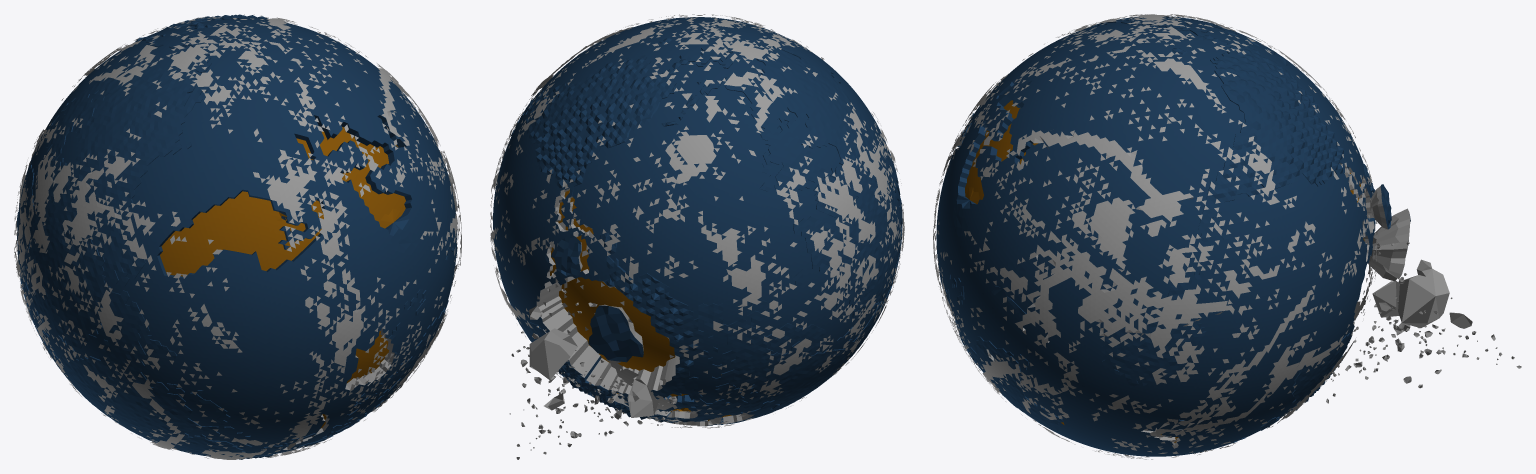
File: EarthBattle.FBX
3 renders of one model, left to right at view 1: azimuth 30°, elevation 25°; view 2: azimuth 150°, elevation 25°; view 3: azimuth 270°, elevation 25°, orthographic. The views are drawn at different scales.
Visible parts, largest first — view 1: EarthBattle_Final, EarthBattle_Clouds; view 2: EarthBattle_Final, EarthBattle_Clouds; view 3: EarthBattle_Final, EarthBattle_Clouds.
Boxes of the visible parts, x1,y1,x2,y2 form: EarthBattle_Final: [16, 14, 457, 459]; EarthBattle_Clouds: [14, 14, 461, 459]; EarthBattle_Final: [493, 17, 902, 459]; EarthBattle_Clouds: [490, 14, 904, 428]; EarthBattle_Final: [936, 16, 1521, 456]; EarthBattle_Clouds: [933, 14, 1378, 459].
Size of the model in its own units: 0.1361 by 0.1357 by 0.1791.
